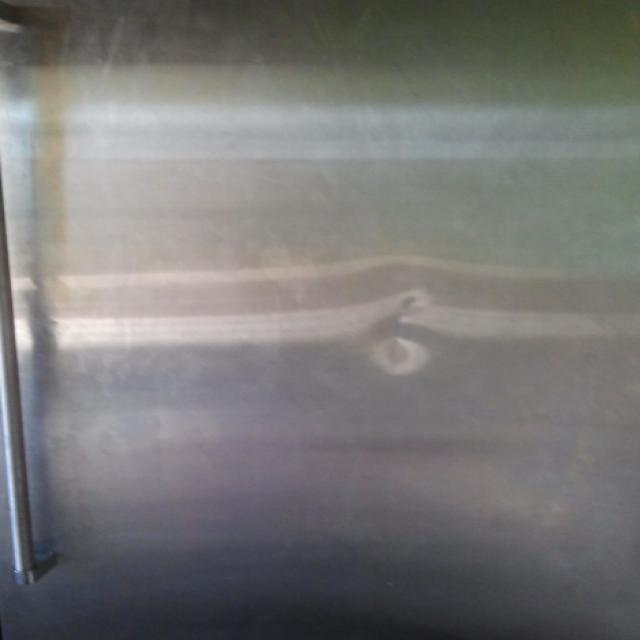dents: (350, 277, 453, 389)
